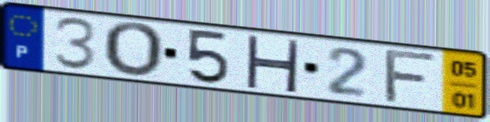2: (325, 46, 374, 100)
3: (53, 16, 99, 72)
5: (185, 27, 232, 87)
F: (381, 48, 441, 105)
H: (243, 33, 302, 95)
O: (100, 20, 167, 80)
